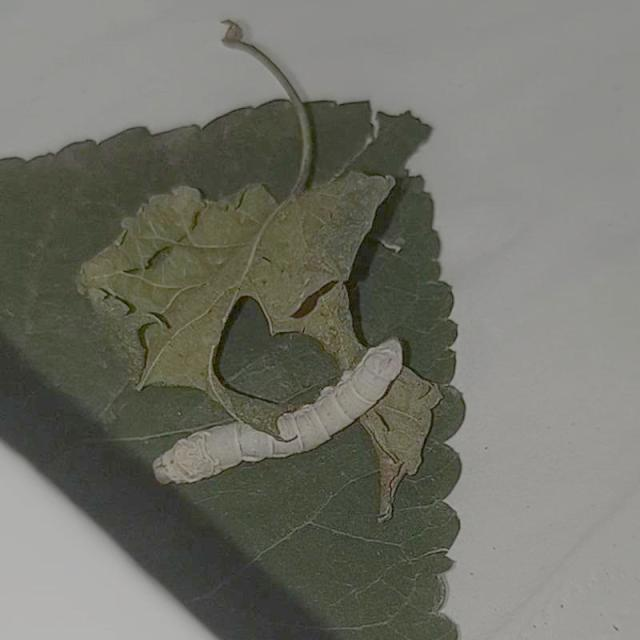Healthy: (145, 330, 411, 502)
